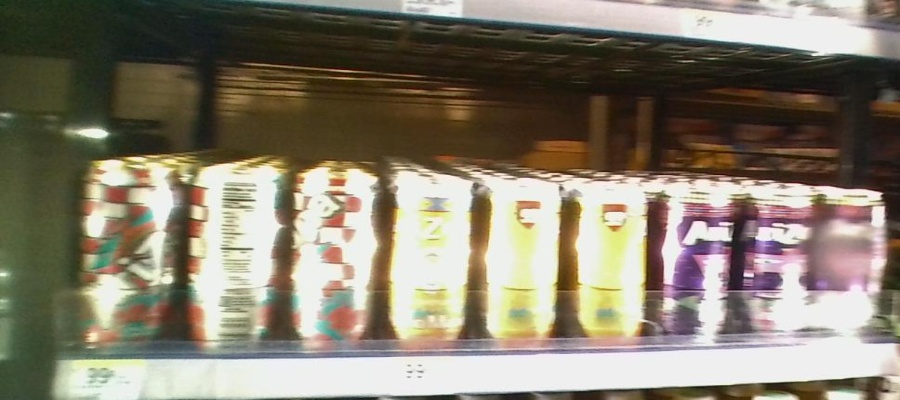bottle: (69, 152, 185, 354), (186, 149, 289, 357), (290, 149, 387, 358), (562, 169, 653, 350), (473, 163, 562, 346), (390, 161, 472, 352), (654, 165, 738, 348), (739, 166, 814, 345), (817, 177, 891, 343)
